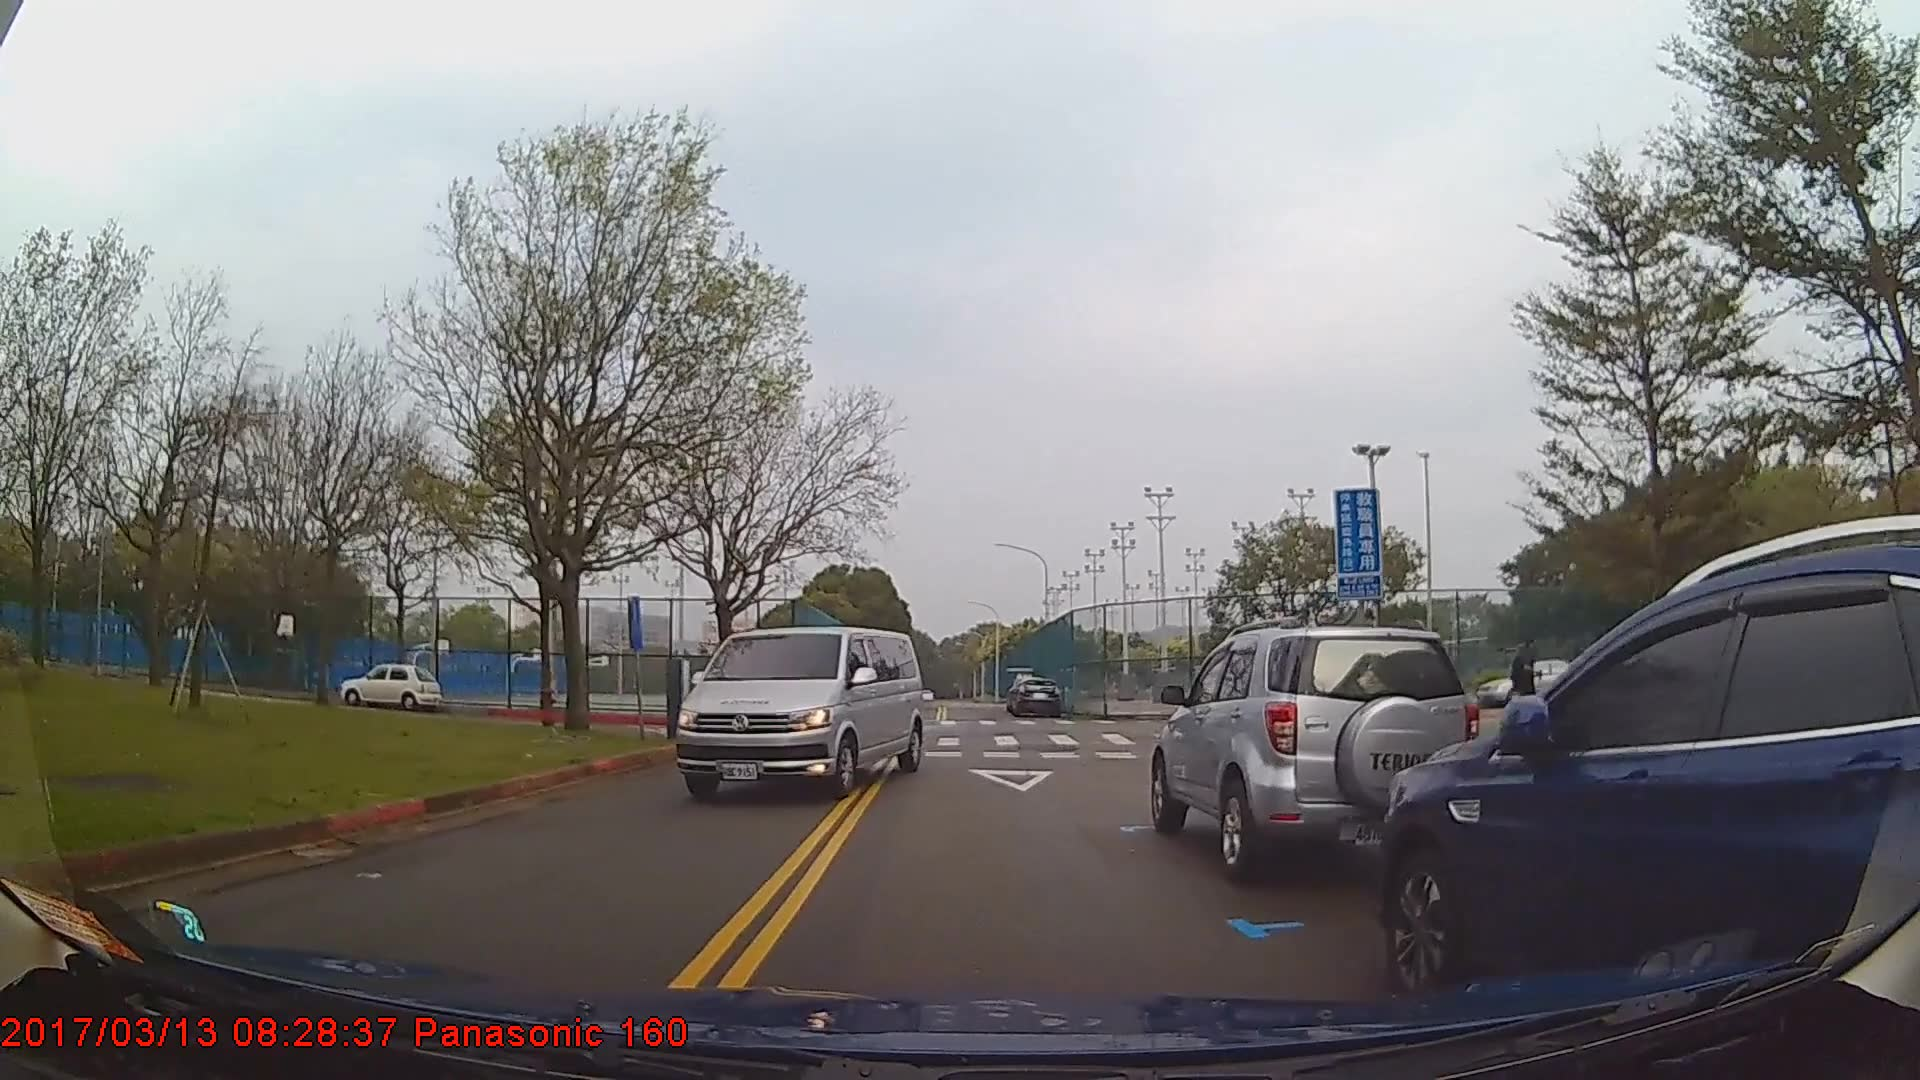pedestrian: (1499, 627, 1552, 743)
vehicle: (1379, 543, 1919, 1006), (1149, 624, 1481, 888), (674, 627, 925, 803), (339, 662, 442, 712), (1476, 658, 1584, 706), (1010, 675, 1062, 718)
